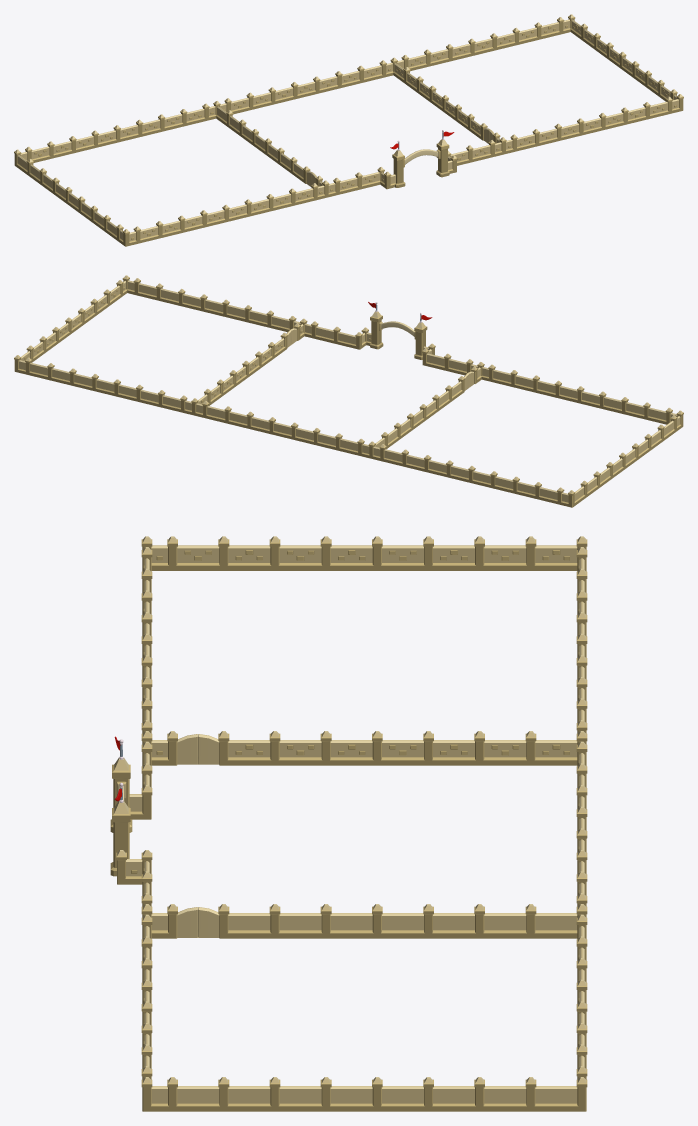
The model's file is Final_big_fence.fbx.
The picture shows the model from 3 angles, top to bottom: view 1: azimuth 30°, elevation 25°; view 2: azimuth 150°, elevation 25°; view 3: azimuth 270°, elevation 25°; orthographic projection. The views are drawn at different scales.
Visible parts, largest first — view 1: big_fence; view 2: big_fence; view 3: big_fence.
Part boxes in pixels (<box>): big_fence: <box>14,14,683,246</box>; big_fence: <box>14,275,683,507</box>; big_fence: <box>110,536,587,1111</box>.
Size of the model in its own units: 5042 by 384 by 1863.
